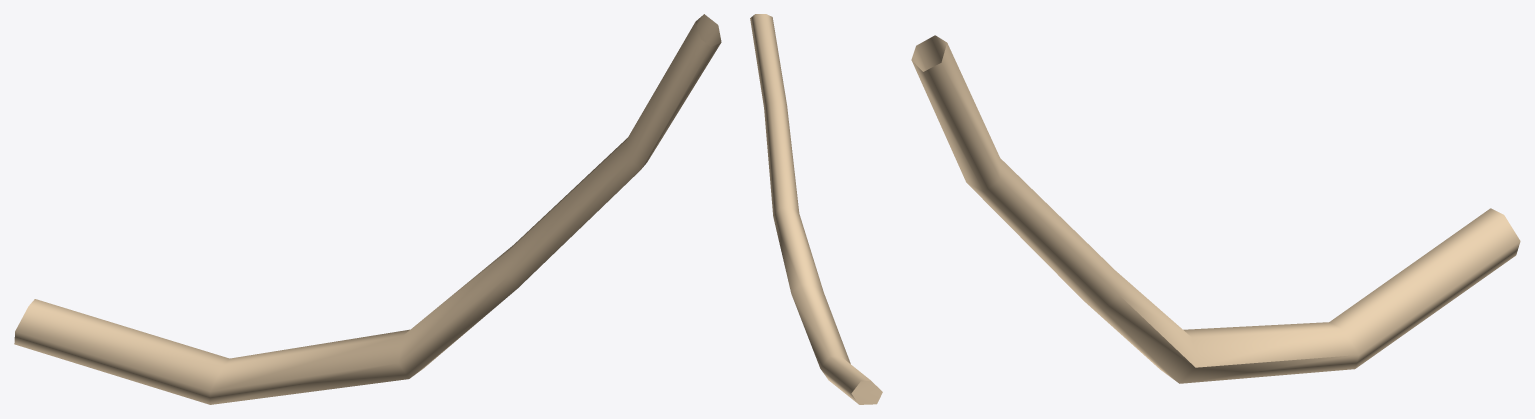
File: L_B_Vestibulocochlear_Nerve01.fbx
The picture shows the model from 3 angles, left to right: view 1: azimuth 30°, elevation 25°; view 2: azimuth 150°, elevation 25°; view 3: azimuth 270°, elevation 25°; orthographic projection. The views are drawn at different scales.
Visible parts, largest first — view 1: L_B_Vestibulocochlear_Nerve; view 2: L_B_Vestibulocochlear_Nerve; view 3: L_B_Vestibulocochlear_Nerve.
Part boxes in pixels (x1=…): L_B_Vestibulocochlear_Nerve: x1=14, y1=14, x2=721, y2=404; L_B_Vestibulocochlear_Nerve: x1=750, y1=14, x2=882, y2=404; L_B_Vestibulocochlear_Nerve: x1=911, y1=35, x2=1520, y2=383.
Size of the model in its own units: 0.8609 by 0.7642 by 0.8466.
